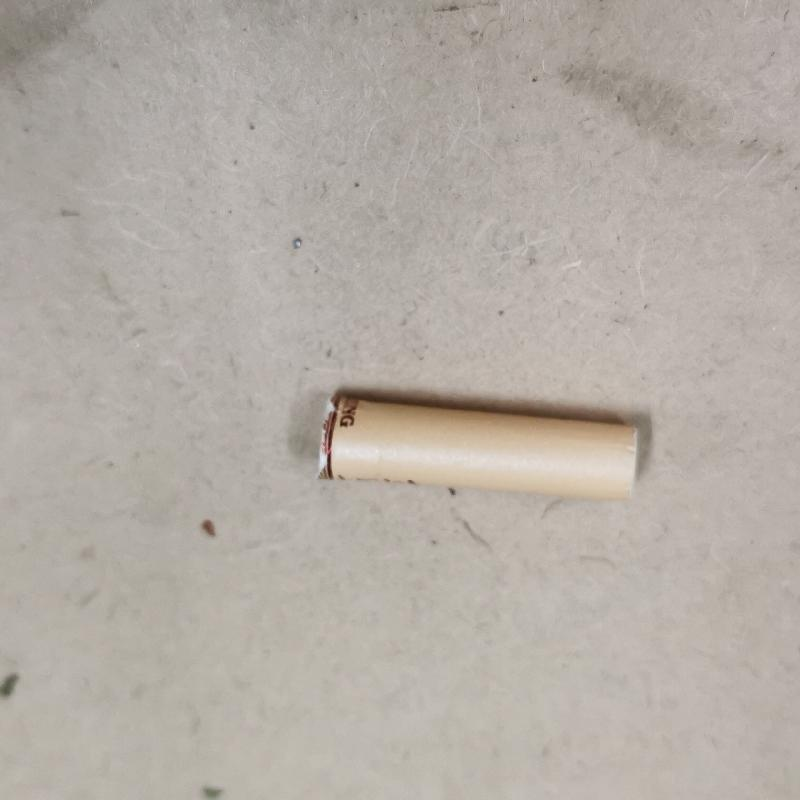cigarette: (309, 384, 647, 504)
